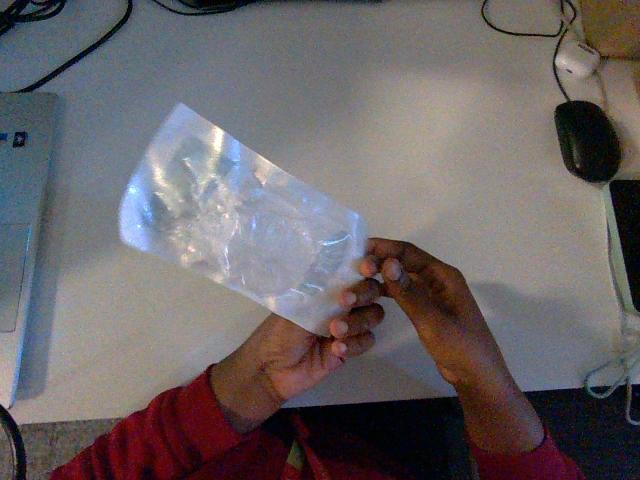gallipot: (120, 105, 366, 335)
